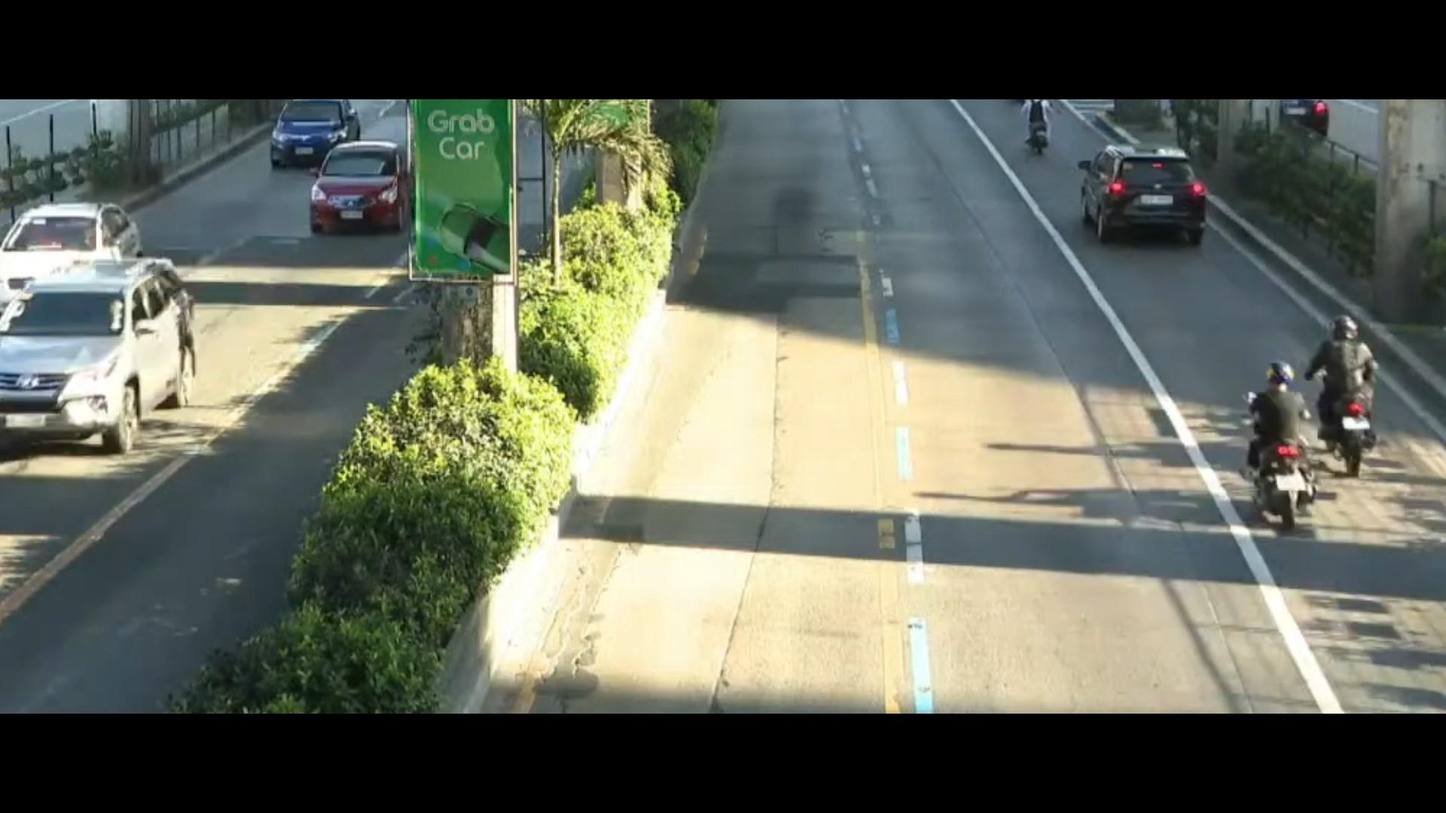Motorcycle: (1305, 292, 1390, 494), (1232, 354, 1323, 541), (1016, 96, 1062, 157)
SUV: (0, 234, 230, 476), (1066, 134, 1228, 243)
Sedan: (0, 192, 170, 297), (304, 130, 418, 240), (301, 132, 413, 241), (241, 99, 361, 164)
